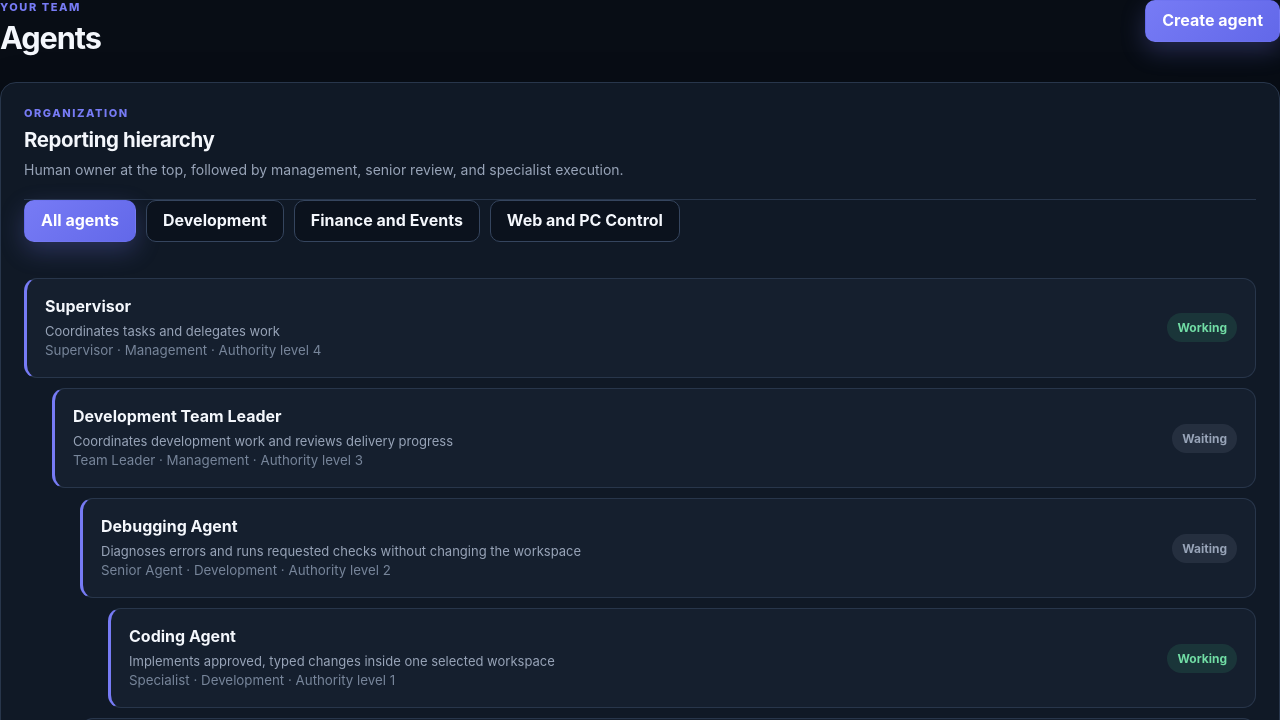
Test: AgentsPage — editing after creation › opens the agent editor from the agent workspace, prefilled for that agent
The image size is (1280, 720).
Note: Enter the Coding Agent workspace.
Click the button with aria-label "Open Coding Agent" at x=182, y=636, box [111,609,1255,708]
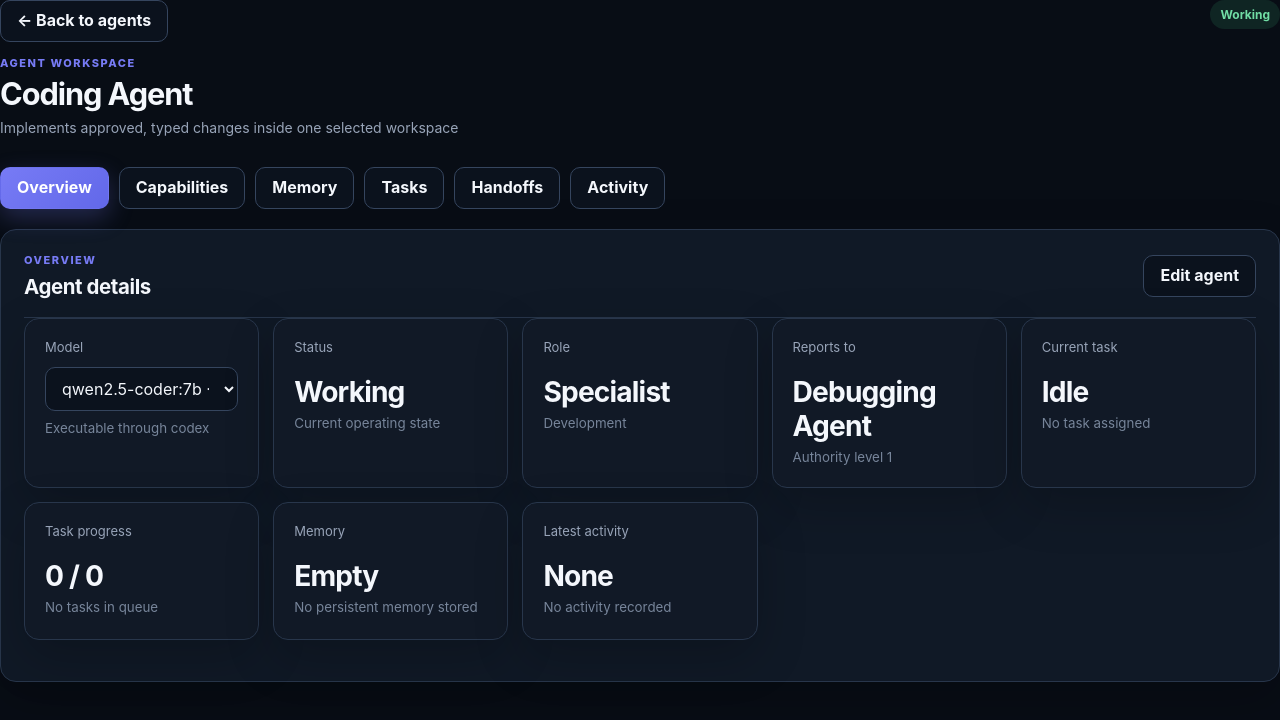
Result: the heading "Agent details" is shown at [24,274,151,299]
Note: The workspace exposes an explicit editor entry point.
Click the button "Edit agent" at x=1200, y=276, box [1144,255,1256,297]
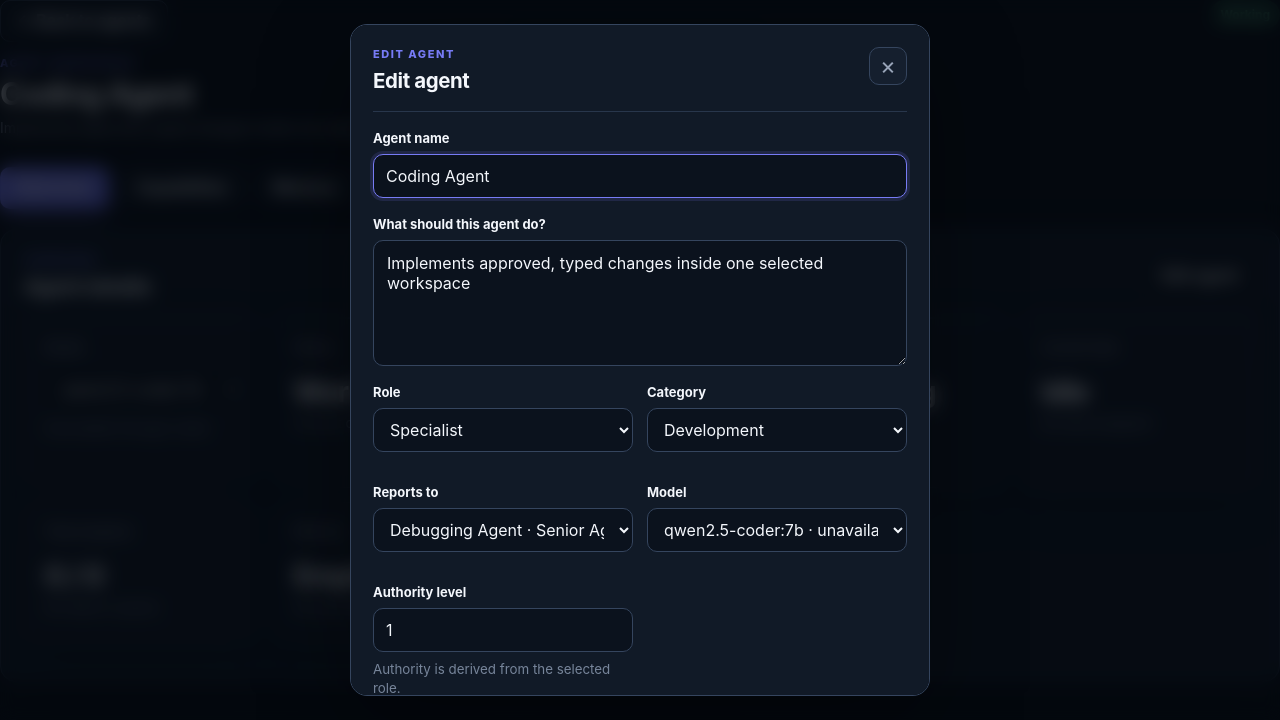
Result: the heading "Edit agent" is shown at [373,68,469,93]
Result: the field labelled "Agent name" holds "Coding Agent" at [373,154,907,198]
Result: the dropdown labelled "Role" is shown at [373,408,633,452]
